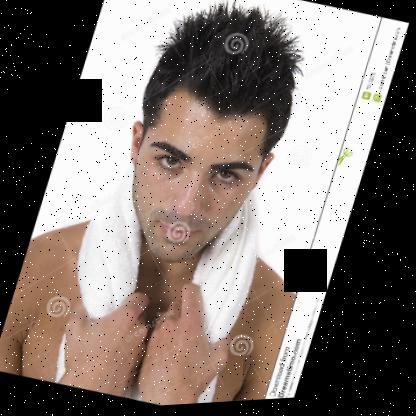Male: (100, 70, 288, 279)
